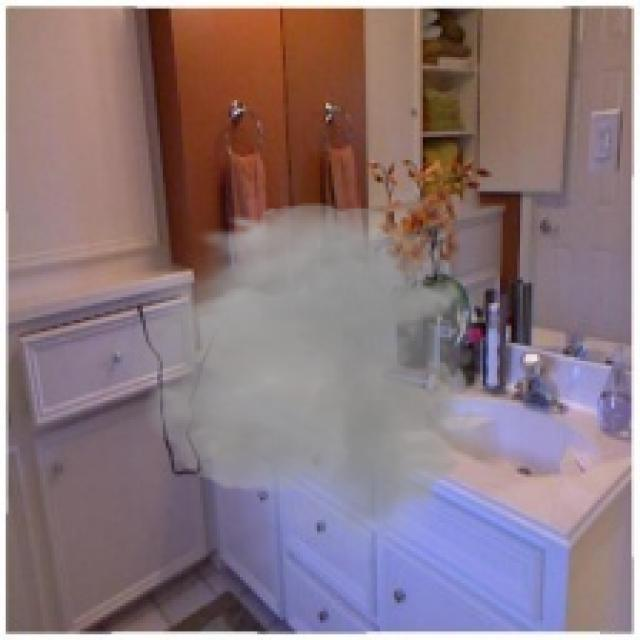Smoke: (97, 194, 514, 563)
